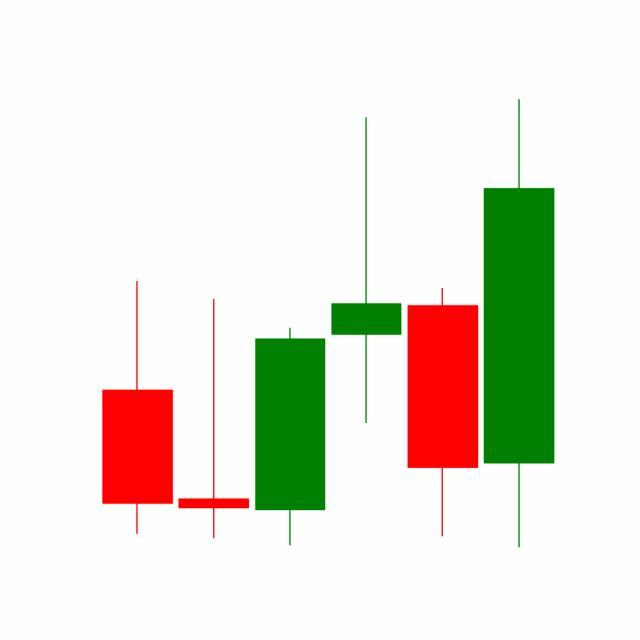Upside-Downside Gap Three Methods: (252, 113, 482, 549)
